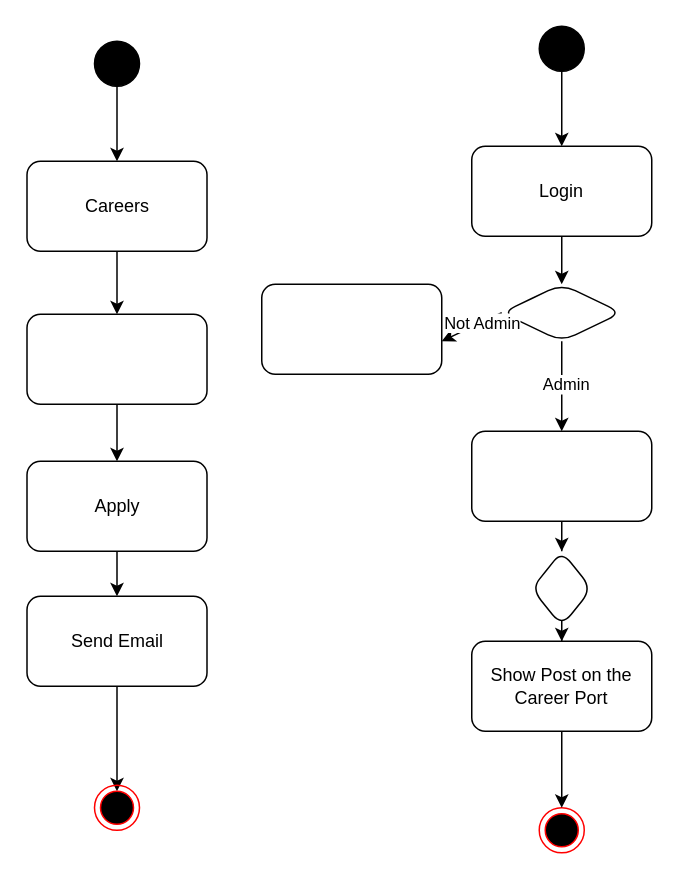
This 678x879 diagram has some shape labels left out. The shapes that lost their labels are listed below. From the top down, each one's centre as x and y in pixels, then its label:
At point 351,328: "Redirect To Home page".
At point 116,358: "View Job".
At point 561,475: "Create a Job post".
